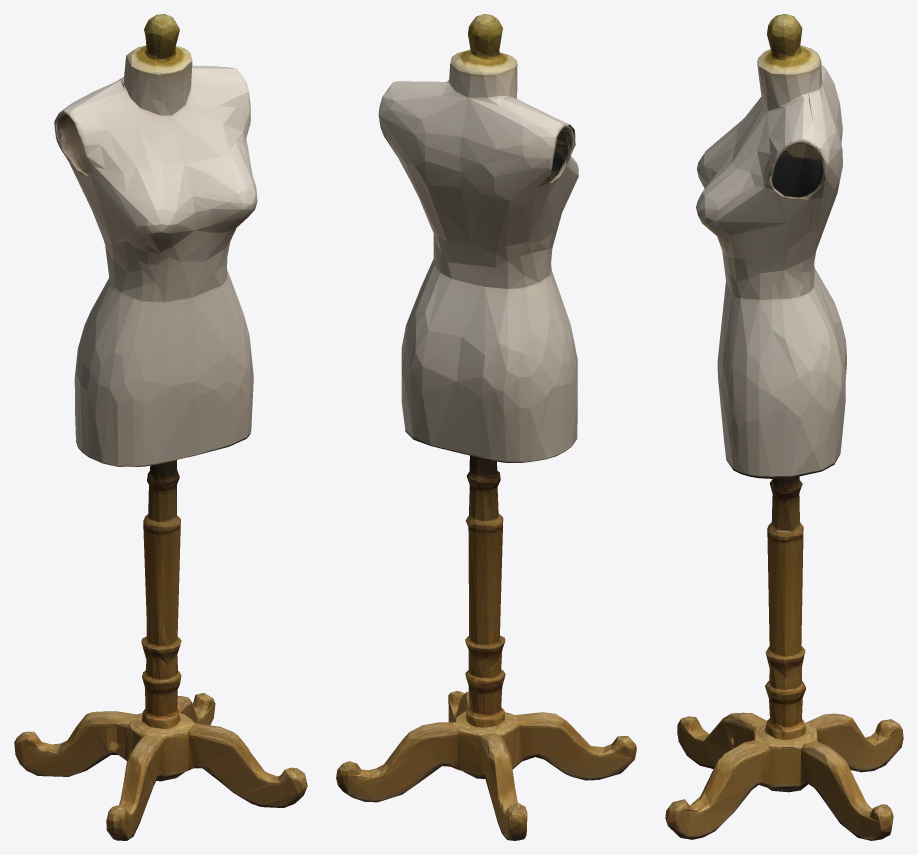
3 views of the same model, side by side, from view 1: azimuth 30°, elevation 25°; view 2: azimuth 150°, elevation 25°; view 3: azimuth 270°, elevation 25° (orthographic).
Visible parts, largest first — view 1: geometry_0; view 2: geometry_0; view 3: geometry_0.
Boxes of the visible parts, left/top/right/bottom form: geometry_0: left=14, top=14, right=307, bottom=840; geometry_0: left=336, top=14, right=636, bottom=840; geometry_0: left=665, top=14, right=903, bottom=840.
Bounding box in the file's own units: 0.2743 × 0.9994 × 0.2748.
1 material, 1 textured.
